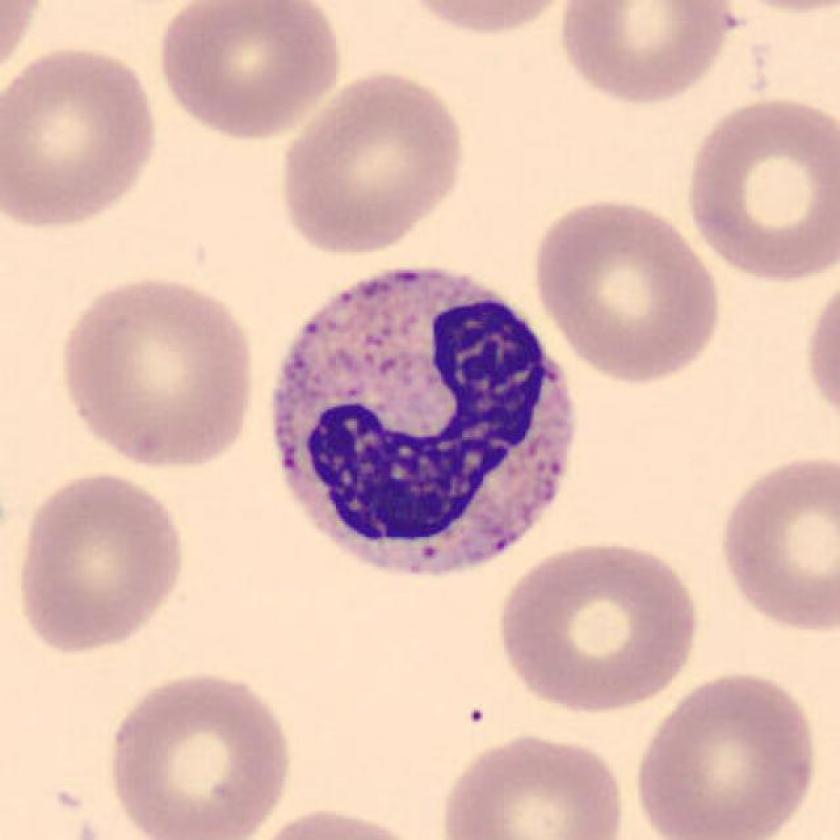neutrophil: (274, 270, 576, 577)
